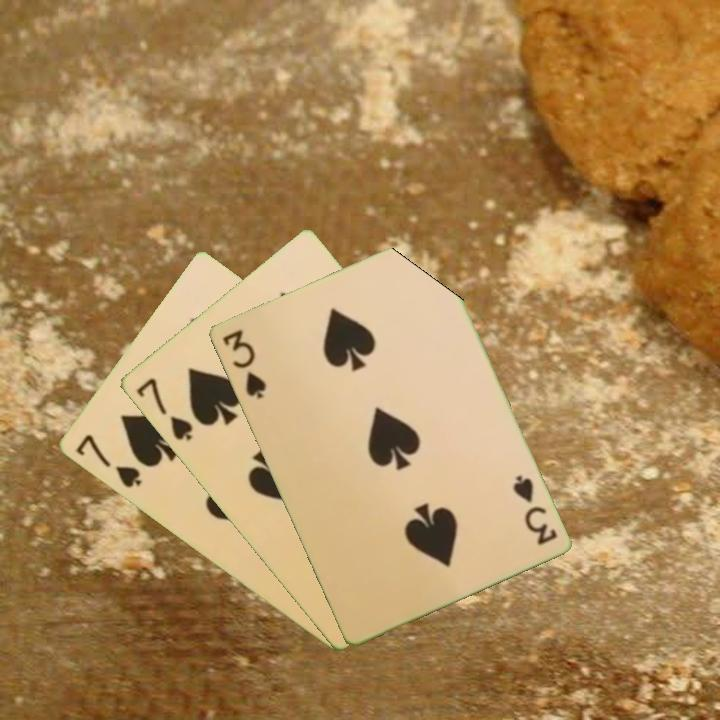3s: (508, 471, 560, 548), (218, 325, 269, 401)
7s: (71, 430, 144, 491), (132, 374, 195, 444)
